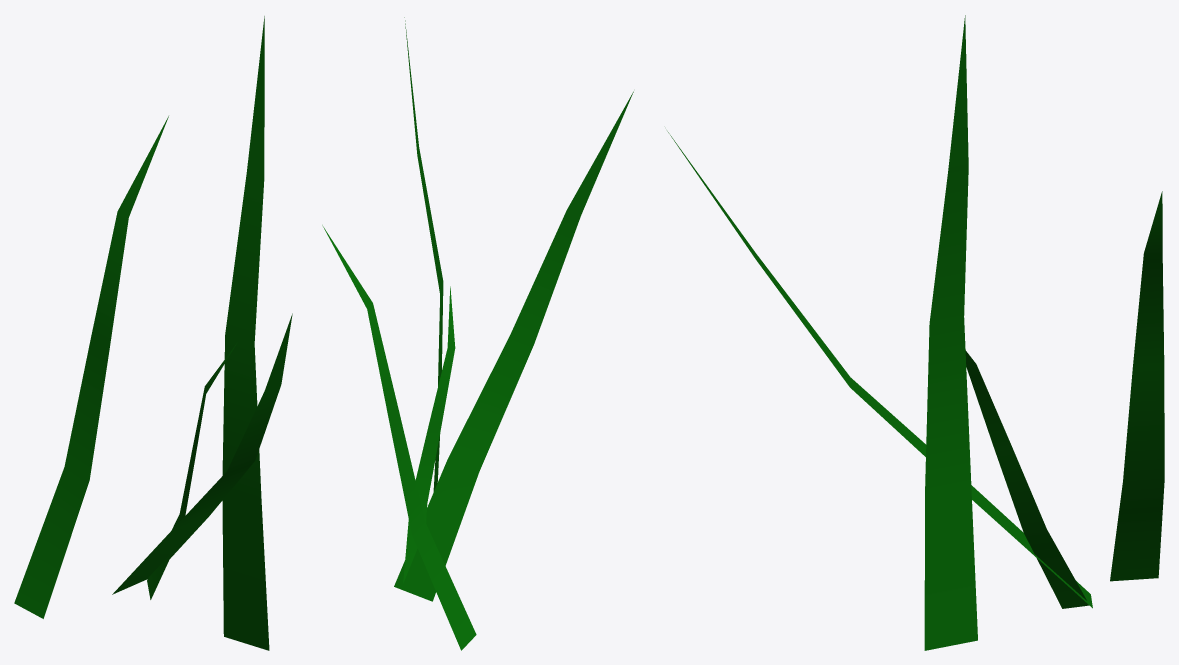
File: grass.glb
3 renders of one model, left to right at view 1: azimuth 30°, elevation 25°; view 2: azimuth 150°, elevation 25°; view 3: azimuth 270°, elevation 25°, orthographic. The views are drawn at different scales.
Visible parts, largest first — view 1: test; view 2: test; view 3: test.
Part boxes in pixels (box(x1,y1,x2,y2)): test: box(14, 16, 292, 650); test: box(322, 17, 633, 650); test: box(667, 15, 1164, 650).
Size of the model in its own units: 0.0135 by 0.0506 by 0.0357.
